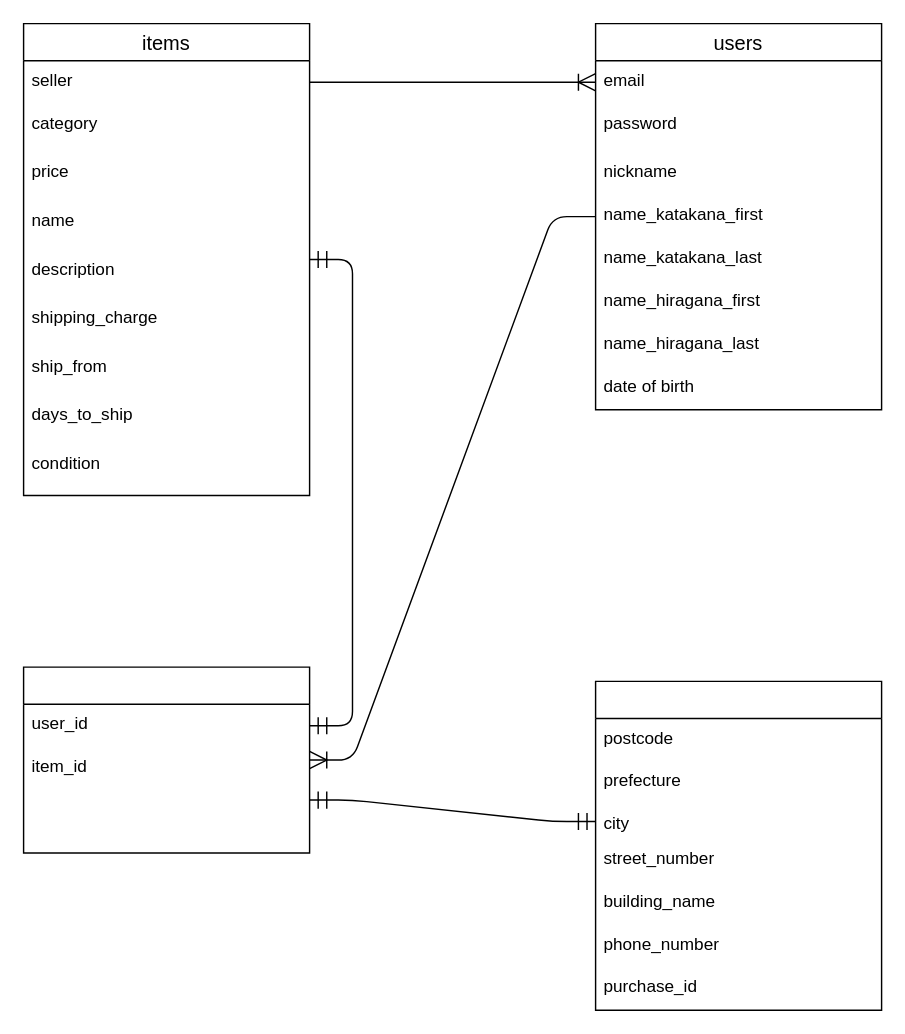
Some shapes in this 905 by 1034 pixel diagram are drawn without their labels. The box of each missing label's shape, as (x1, y1, x2, y2) in pixels:
addresses: (594, 680, 882, 1010)
purchases: (22, 666, 310, 853)
